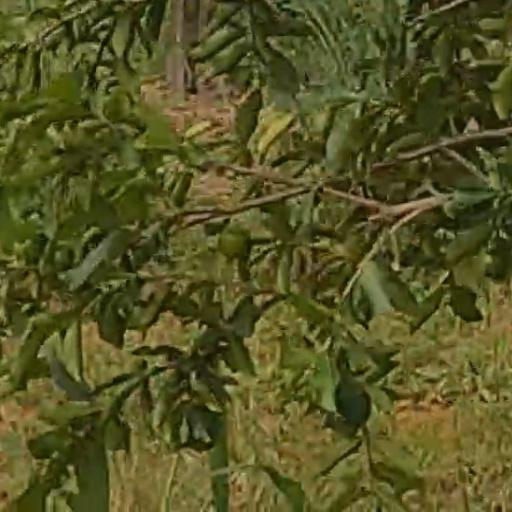acerola_verde: (219, 227, 251, 259)
